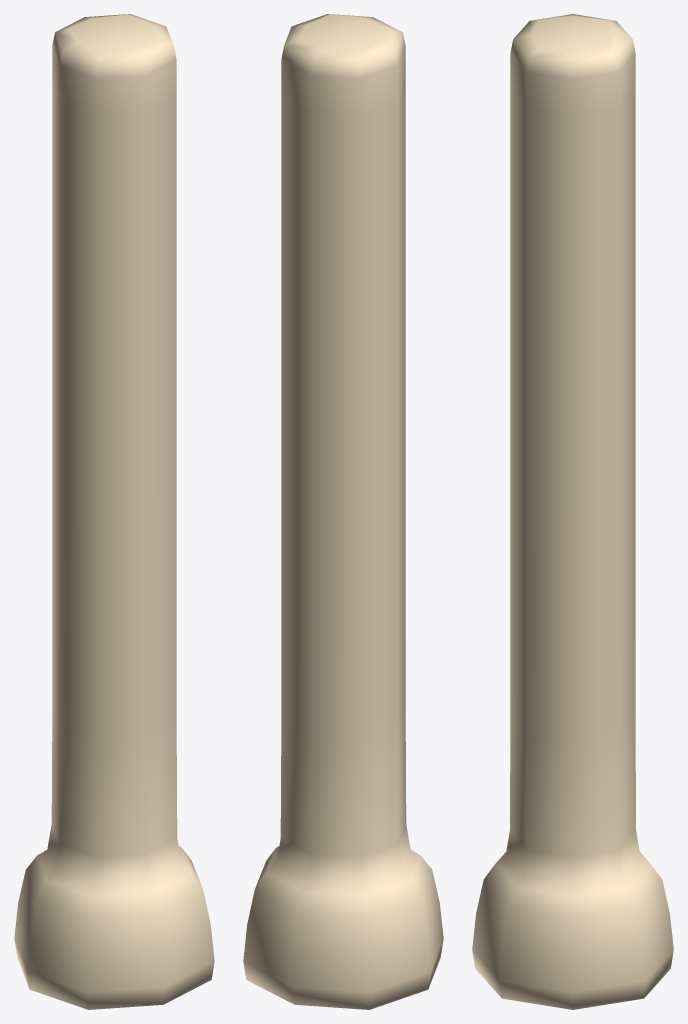
File: column.fbx
3 views of the same model, side by side, from view 1: azimuth 30°, elevation 25°; view 2: azimuth 150°, elevation 25°; view 3: azimuth 270°, elevation 25° (orthographic).
Visible parts, largest first — view 1: column01; view 2: column01; view 3: column01.
Boxes of the visible parts, bbox=[...] form: column01: bbox=[14, 14, 214, 1009]; column01: bbox=[243, 14, 443, 1009]; column01: bbox=[472, 14, 673, 1009].
Bounding box in the file's own units: 248 × 1282 × 248.
